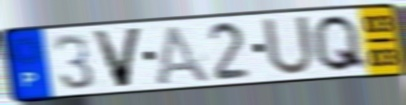2: (207, 19, 252, 82)
3: (52, 31, 97, 92)
A: (151, 22, 215, 85)
Q: (310, 12, 371, 74)
U: (259, 14, 318, 79)
V: (89, 25, 146, 90)
